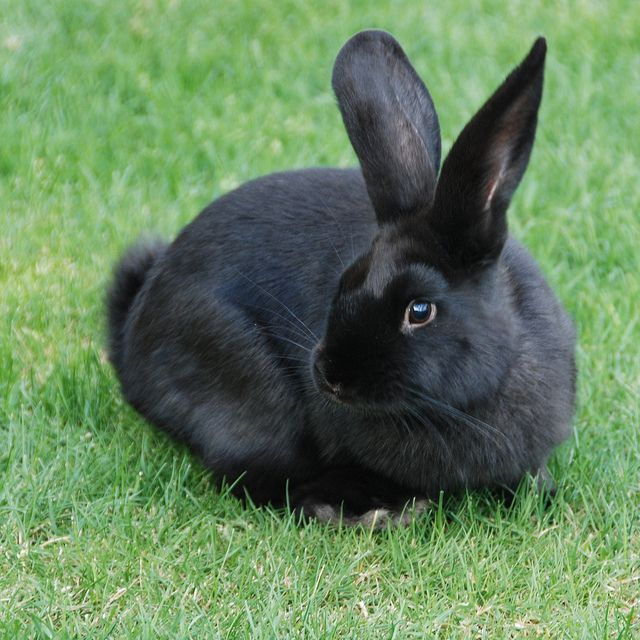bunny: (75, 16, 610, 529)
